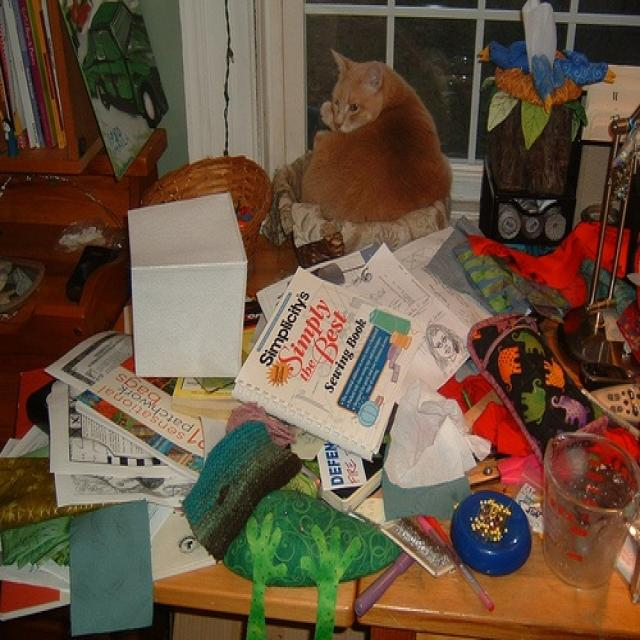cat: (300, 41, 450, 222)
